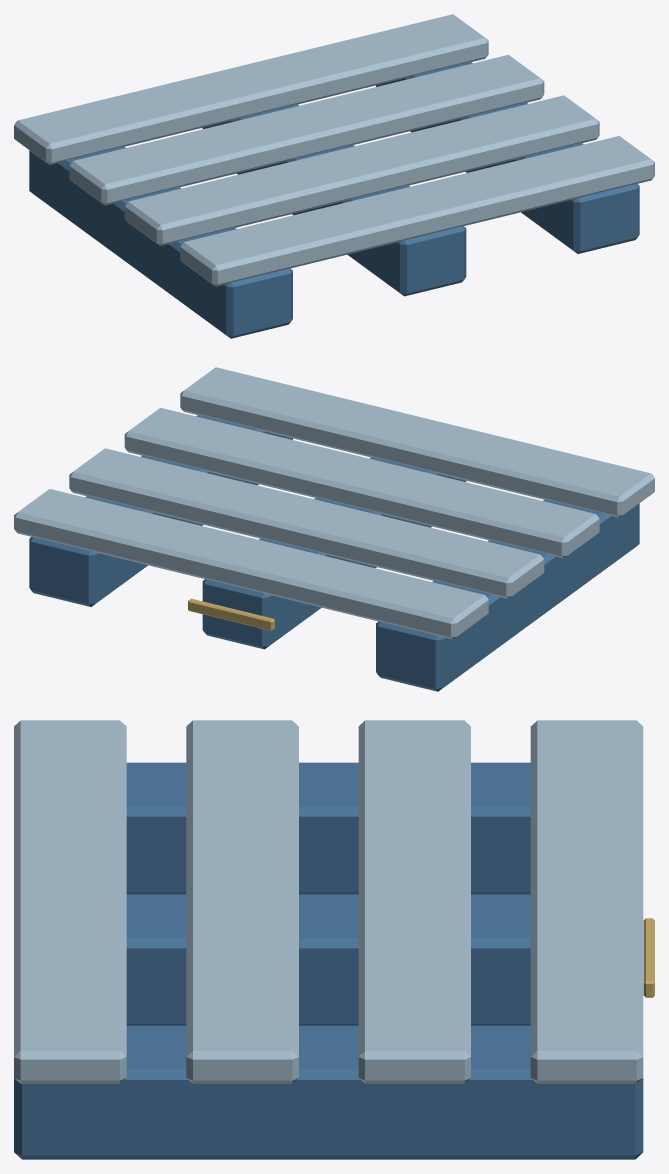
Rendered from port_plastic_pallet.glb.
3 views of the same model, one above another, from view 1: azimuth 30°, elevation 25°; view 2: azimuth 150°, elevation 25°; view 3: azimuth 270°, elevation 25° (orthographic). The views are drawn at different scales.
Visible parts, largest first — view 1: pallet_slat (×4), pallet_runner (×3); view 2: pallet_slat (×4), pallet_runner (×3), fork_id; view 3: pallet_slat (×4), pallet_runner (×3), fork_id.
Boxes of the visible parts, x1,y1,x2,y2 form: pallet_slat (×4): (14, 14, 654, 286); pallet_runner (×3): (29, 61, 639, 338); pallet_slat (×4): (14, 367, 654, 639); pallet_runner (×3): (29, 414, 639, 691); fork_id: (188, 598, 274, 630); pallet_slat (×4): (14, 720, 643, 1083); pallet_runner (×3): (14, 762, 643, 1159); fork_id: (643, 918, 654, 997).
Size of the model in its own units: 1.2 by 0.2005 by 0.9675.
